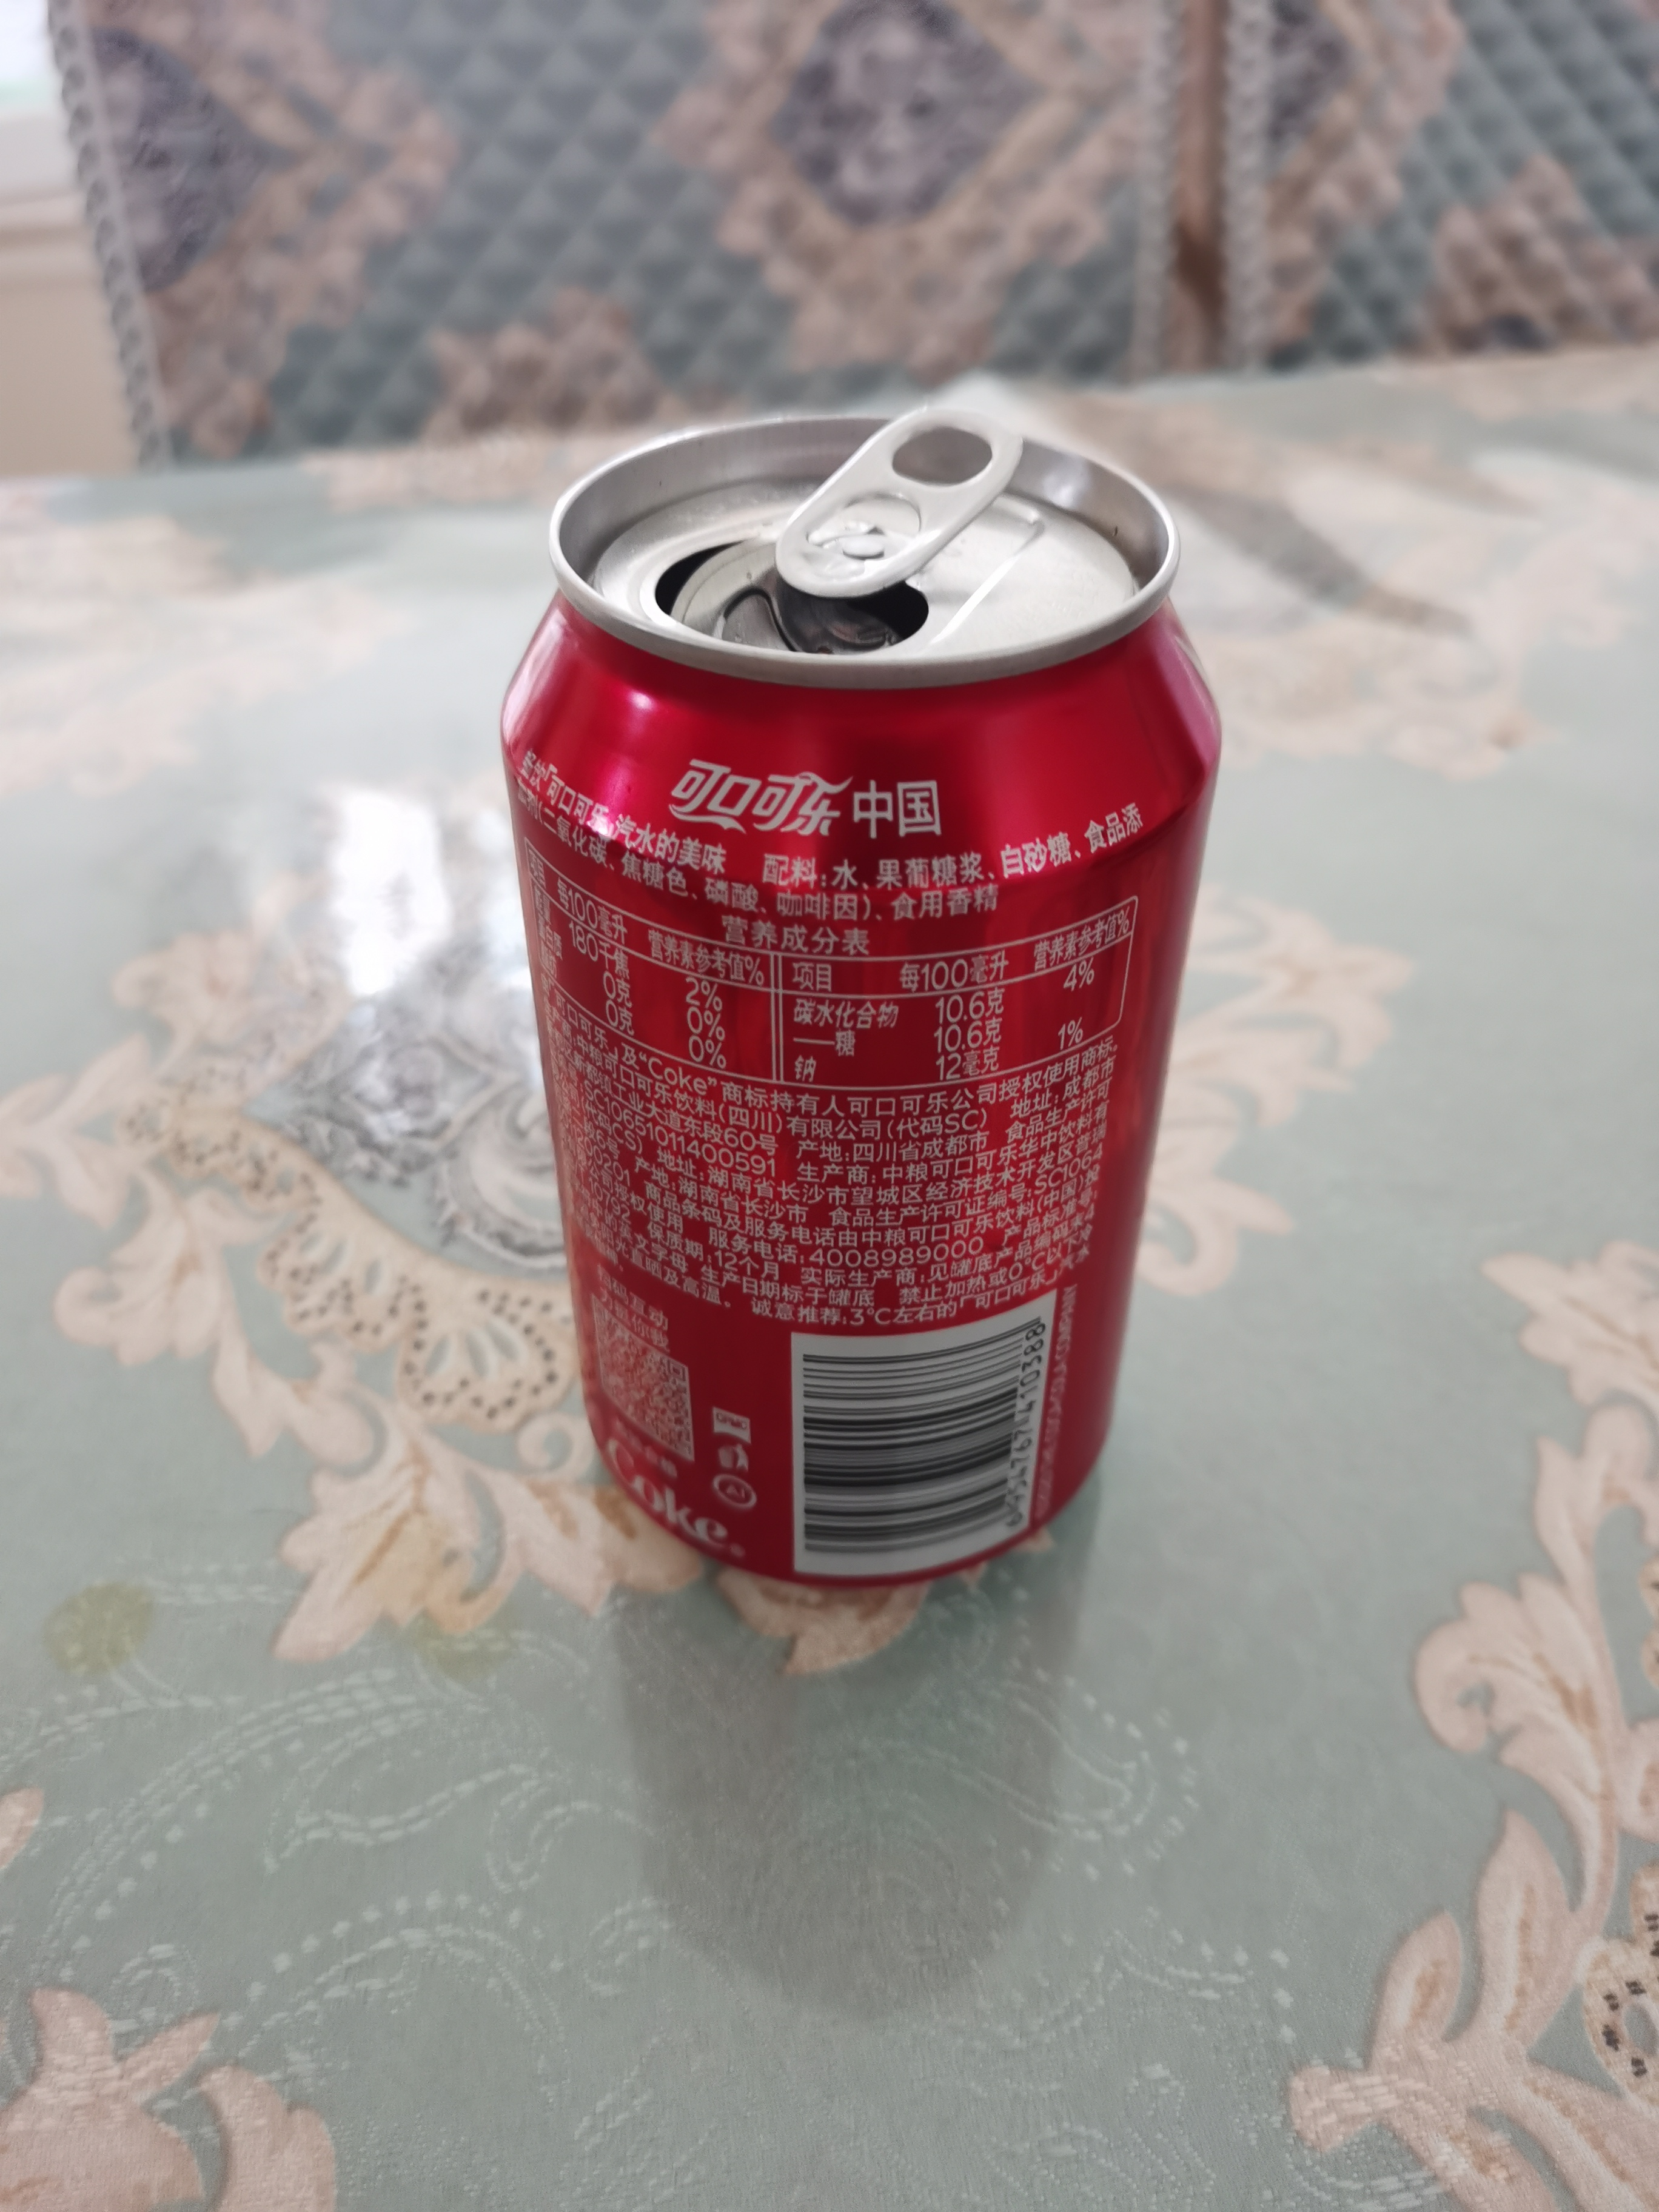可口可乐: (477, 421, 1230, 1597)
